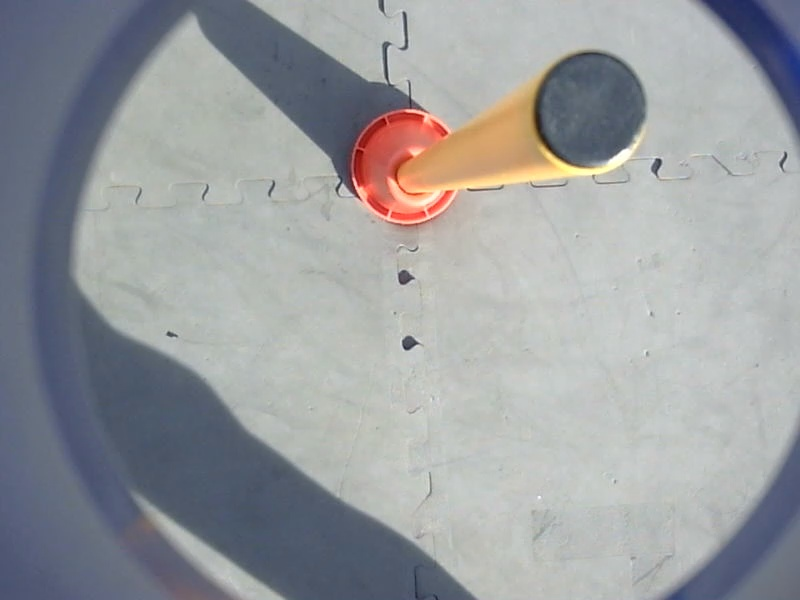tip: (523, 43, 653, 180)
